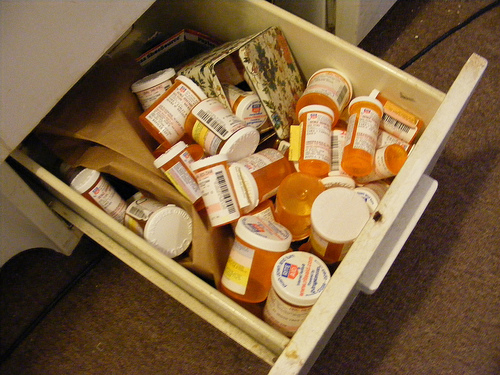pill bottle: (224, 215, 290, 302), (184, 97, 259, 160), (146, 78, 206, 142), (191, 153, 240, 228), (343, 95, 383, 179), (298, 105, 335, 178)
